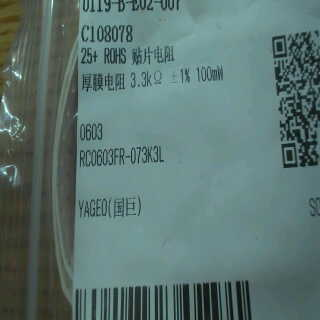3.3kO: (127, 67, 165, 94)
